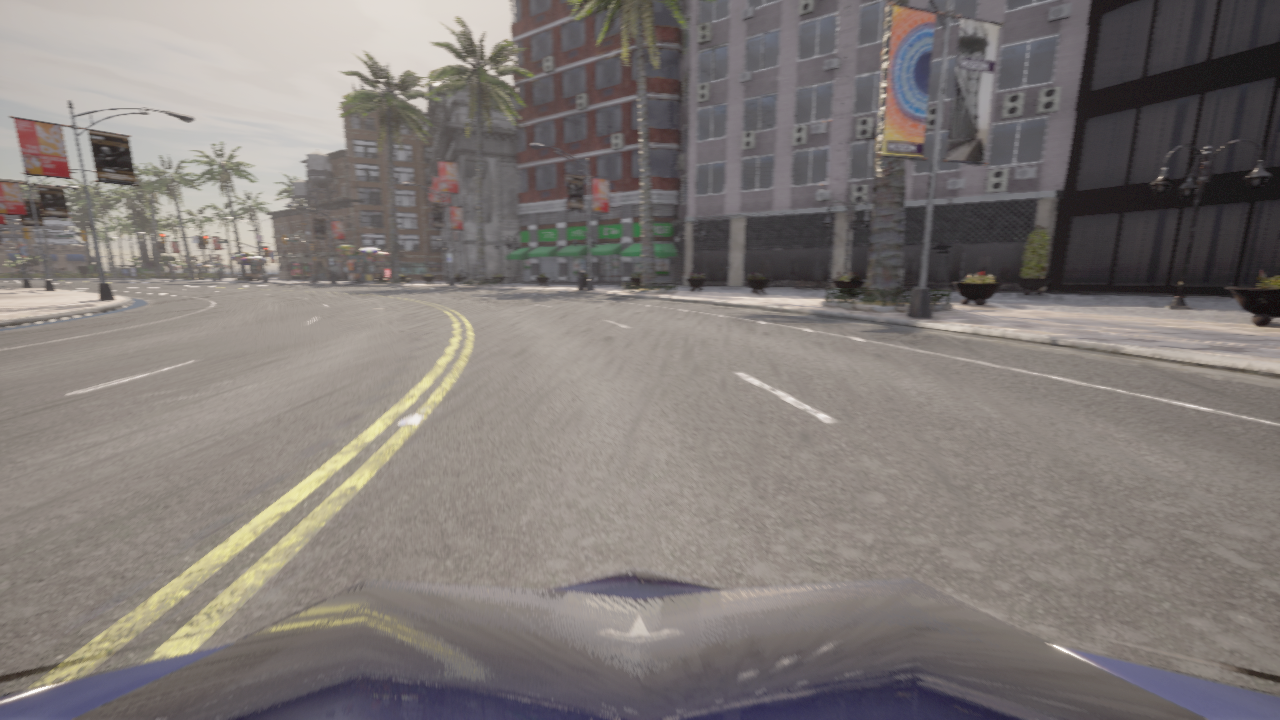cyclist: (0, 569, 1279, 719), (174, 274, 177, 278), (186, 274, 188, 276), (204, 276, 206, 278)
